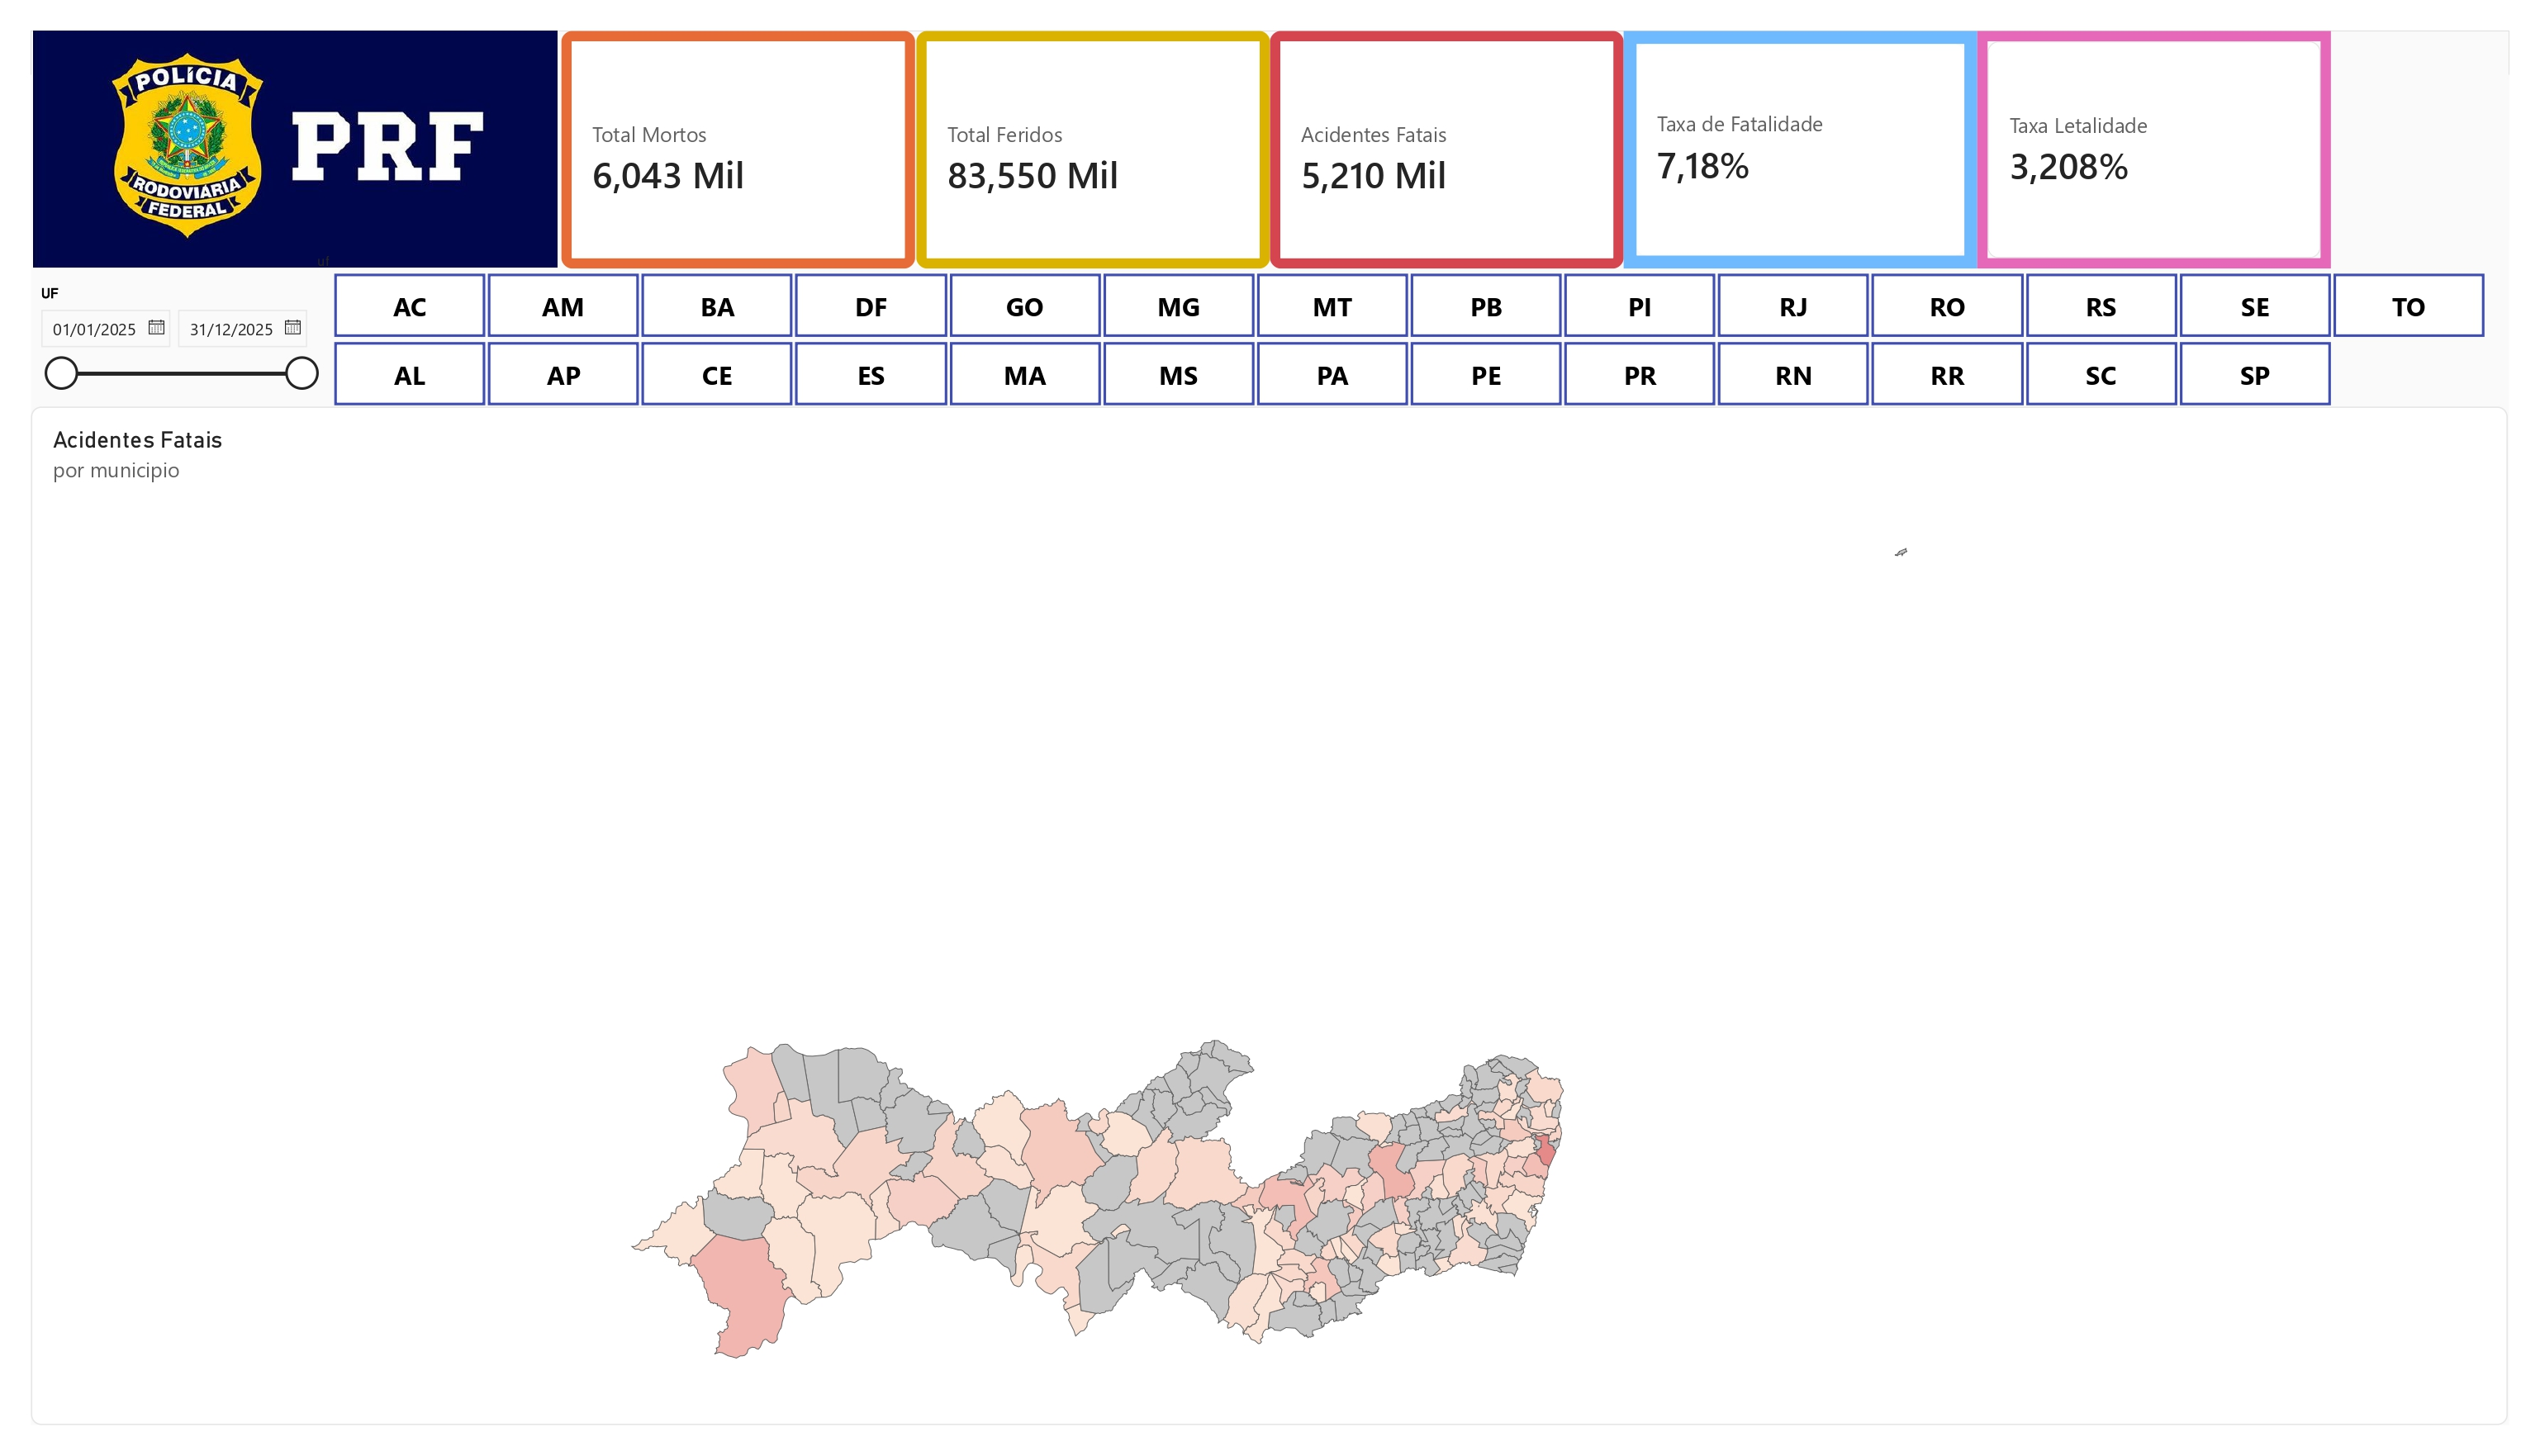

The page's visual inventory and layout, read from the dashboard file:
{"tool":"powerbi","page":{"name":"Acidentes Fatais PE","canvas":[1920,1080],"ordinal":6},"visuals":[{"type":"image","box":[0,0,410.3,183.2],"z":0},{"type":"cardVisual","fields":{"Data":["base_analitica_prf_2025.Total_Mortos"]},"box":[411,0,274,184],"z":1000},{"type":"cardVisual","fields":{"Data":["base_analitica_prf_2025.Total_Feridos"]},"box":[686.3,0,274,184],"z":2000},{"type":"cardVisual","fields":{"Data":["base_analitica_prf_2025.Acidentes_Fatais"]},"box":[960.3,0,274,184],"z":3000},{"type":"cardVisual","fields":{"Data":["base_analitica_prf_2025.Porcentagem_Fatal"]},"box":[1234.3,0,274,184],"z":4000},{"type":"cardVisual","fields":{"Data":["base_analitica_prf_2025.Taxa Letalidade"]},"box":[1508.3,0,274,184],"z":5000},{"type":"slicer","fields":{"Values":["base_analitica_prf_2025.uf"]},"box":[214.5,172.2,1705.5,119.6],"z":6000},{"type":"slicer","fields":{"Values":["base_analitica_prf_2025.data_inversa"]},"box":[0,197,226.1,125.5],"z":7000},{"type":"shapeMap","fields":{"Category":["base_analitica_prf_2025.municipio"],"Value":["base_analitica_prf_2025.Acidentes Fatais"]},"box":[0,291.3,1919.3,788.7],"z":7001}]}

Visuals, with their boxes on the page's 1920x1080 design canvas (x1, y1, x2, y2). These are canvas units, not pixel positions in the 2540x1456 screenshot, which may show the page scaled, cropped or inside an application window:
image: bbox=[0, 0, 410, 183]
cardVisual - base_analitica_prf_2025.Total_Mortos: bbox=[411, 0, 685, 184]
cardVisual - base_analitica_prf_2025.Total_Feridos: bbox=[686, 0, 960, 184]
cardVisual - base_analitica_prf_2025.Acidentes_Fatais: bbox=[960, 0, 1234, 184]
cardVisual - base_analitica_prf_2025.Porcentagem_Fatal: bbox=[1234, 0, 1508, 184]
cardVisual - base_analitica_prf_2025.Taxa Letalidade: bbox=[1508, 0, 1782, 184]
slicer - base_analitica_prf_2025.uf: bbox=[214, 172, 1920, 292]
slicer - base_analitica_prf_2025.data_inversa: bbox=[0, 197, 226, 322]
shapeMap - base_analitica_prf_2025.municipio x base_analitica_prf_2025.Acidentes Fatais: bbox=[0, 291, 1919, 1080]
